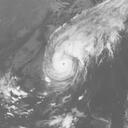cyclone: (43, 40, 81, 86)
